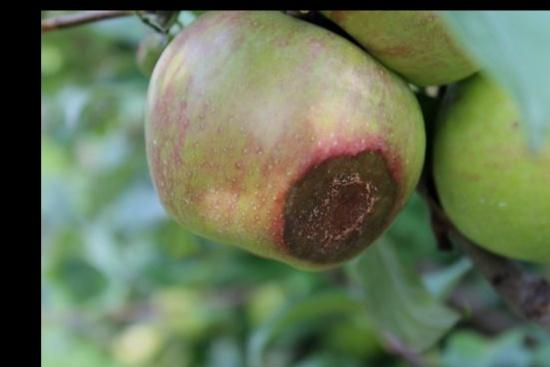rotten apple: (138, 11, 435, 275)
